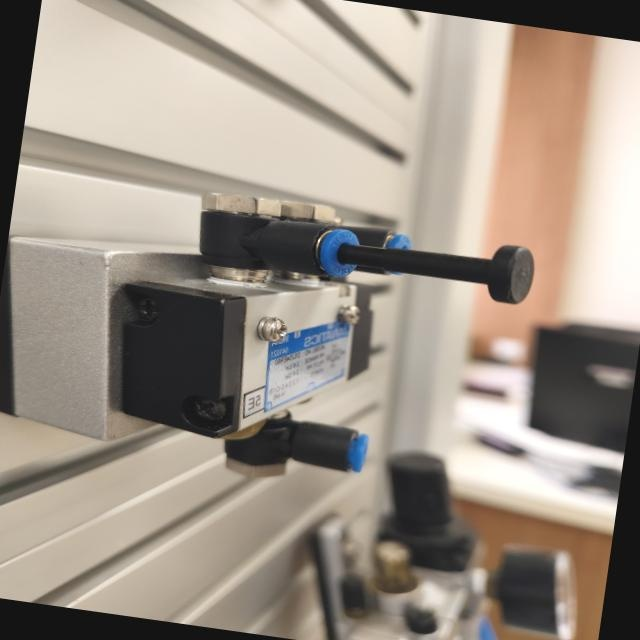5by2 DCV: (0, 145, 553, 524)
